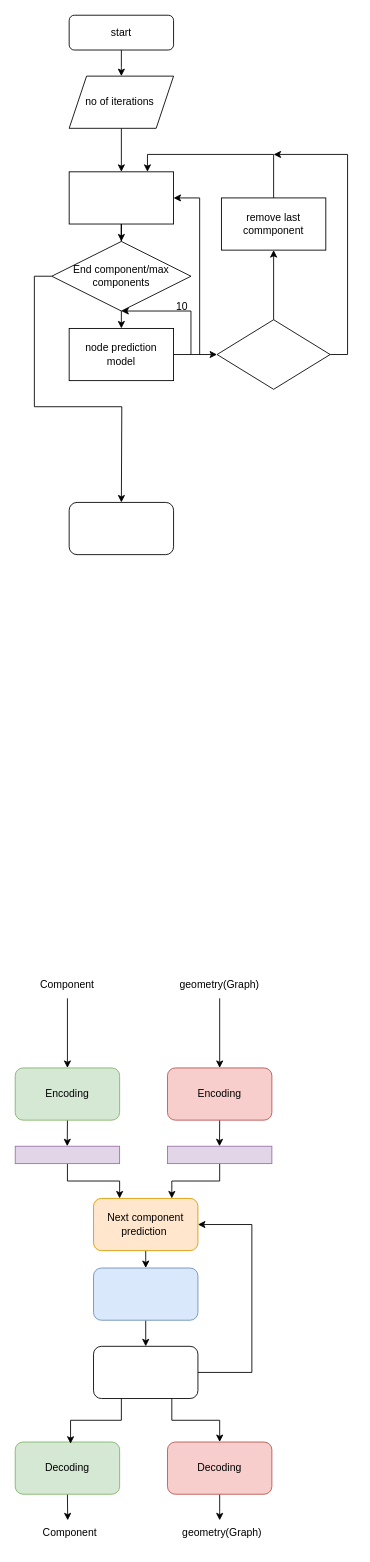
The diagram is 370 pixels wide and 1562 high, and some of its shapes have lost their labels. Each missing label, with the centre of its shape:
"Check for all nodes of the newly added component can connect connected" belongs at (273,354).
"Component prediction model" belongs at (121,197).
"end" belongs at (121,528).
"node prediction" belongs at (145,1293).
"Remove components without nodes" belongs at (145,1372).
